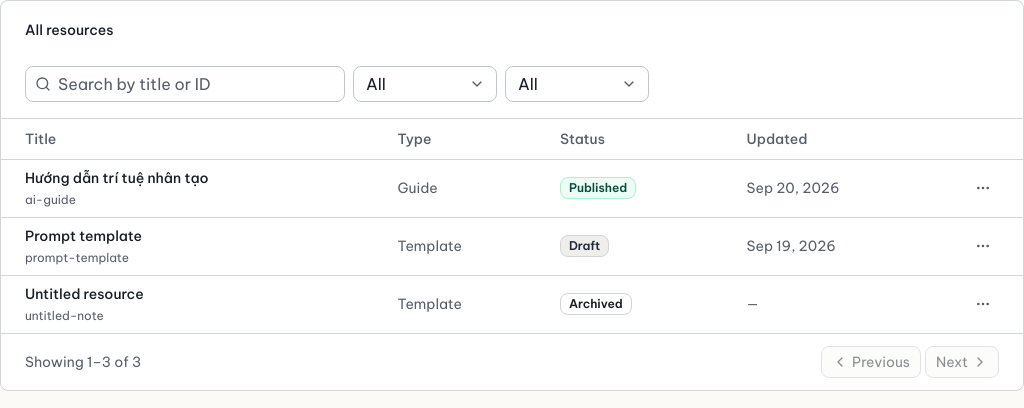
Studio content list table › searches without diacritics, filters status and type, and states the total of a complete list
The image size is (1024, 408).
Check: the heading "All resources" is shown, box [25,21,114,39]
Check: the text "Showing 1–3 of 3" is shown, box [25,352,141,372]
Type "tri tue" into the search field labelled "Search by title or ID". click: (185, 84)
box: [25,66,345,102]
Then press Enter
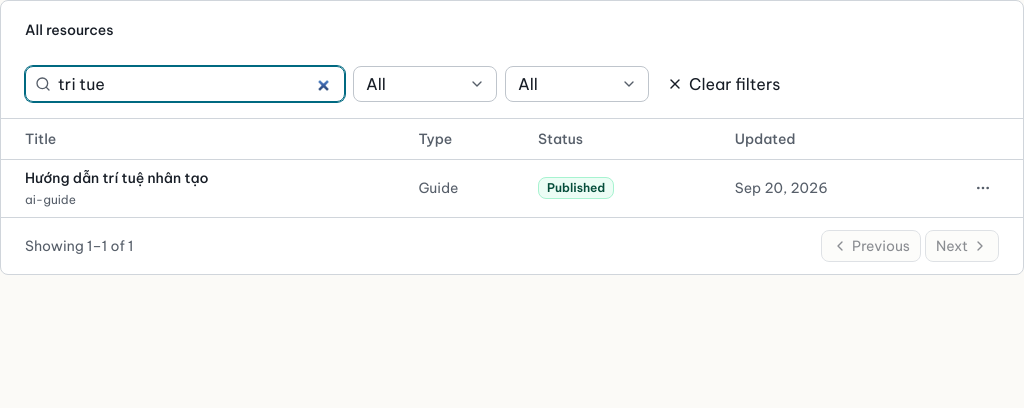
Check: the link "Prompt template" is gone
Check: the text "Showing 1–1 of 1" is shown, box [25,236,133,256]
Click the button "Clear filters". click: (724, 84)
box: [657,66,790,102]
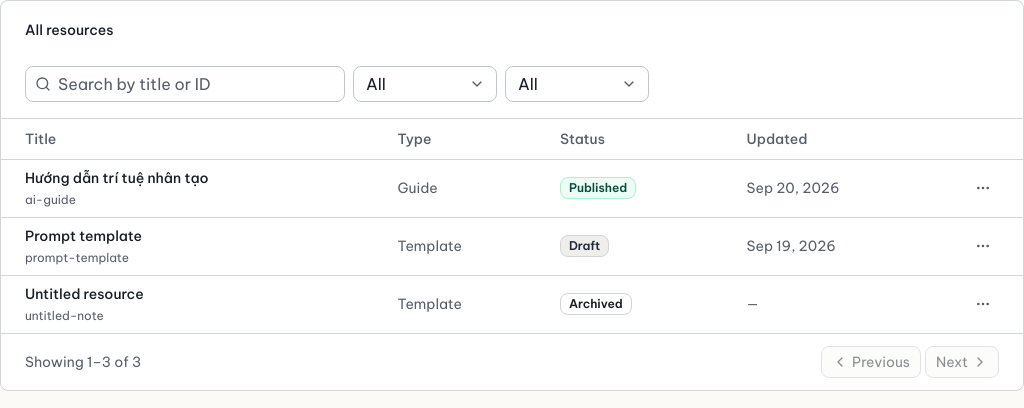
Select "Template" in the dropdown named "Type". click: (577, 84)
box: [505,66,649,102]
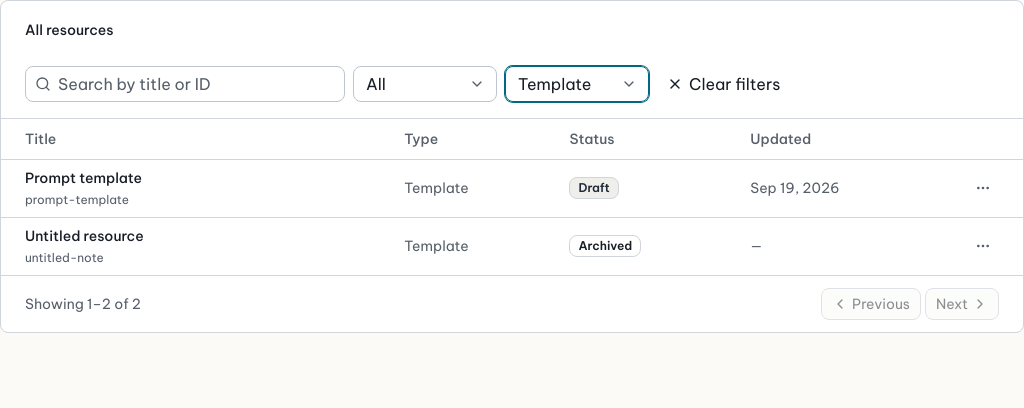
Select "Draft" in the dropdown named "Status". click: (425, 84)
box: [353,66,497,102]
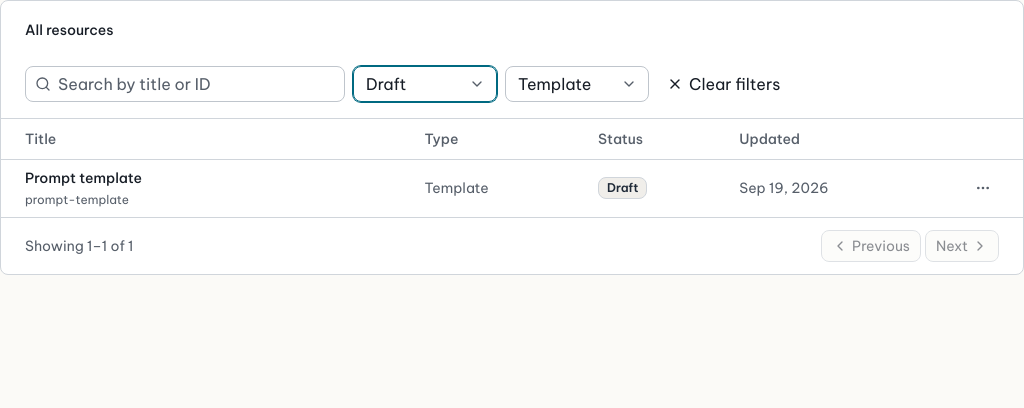
Check: the link "Prompt template" is shown, box [25,169,142,187]
Check: the link "Untitled resource" is gone
Select "Published" in the dropdown named "Status". click: (425, 84)
box: [353,66,497,102]
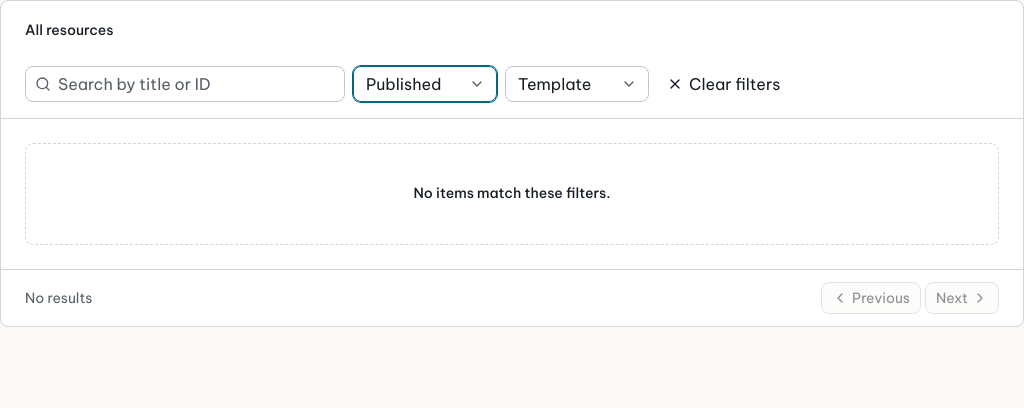
Check: the heading "No items match these filters." is shown, box [414,184,611,204]
